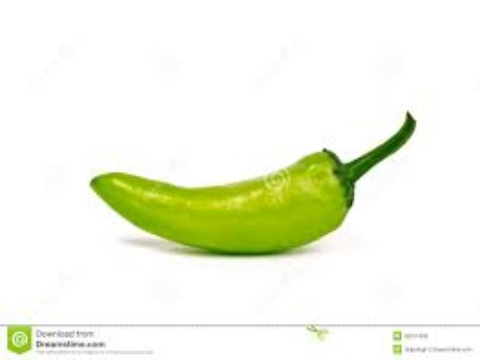Chilli: (74, 116, 424, 268)
